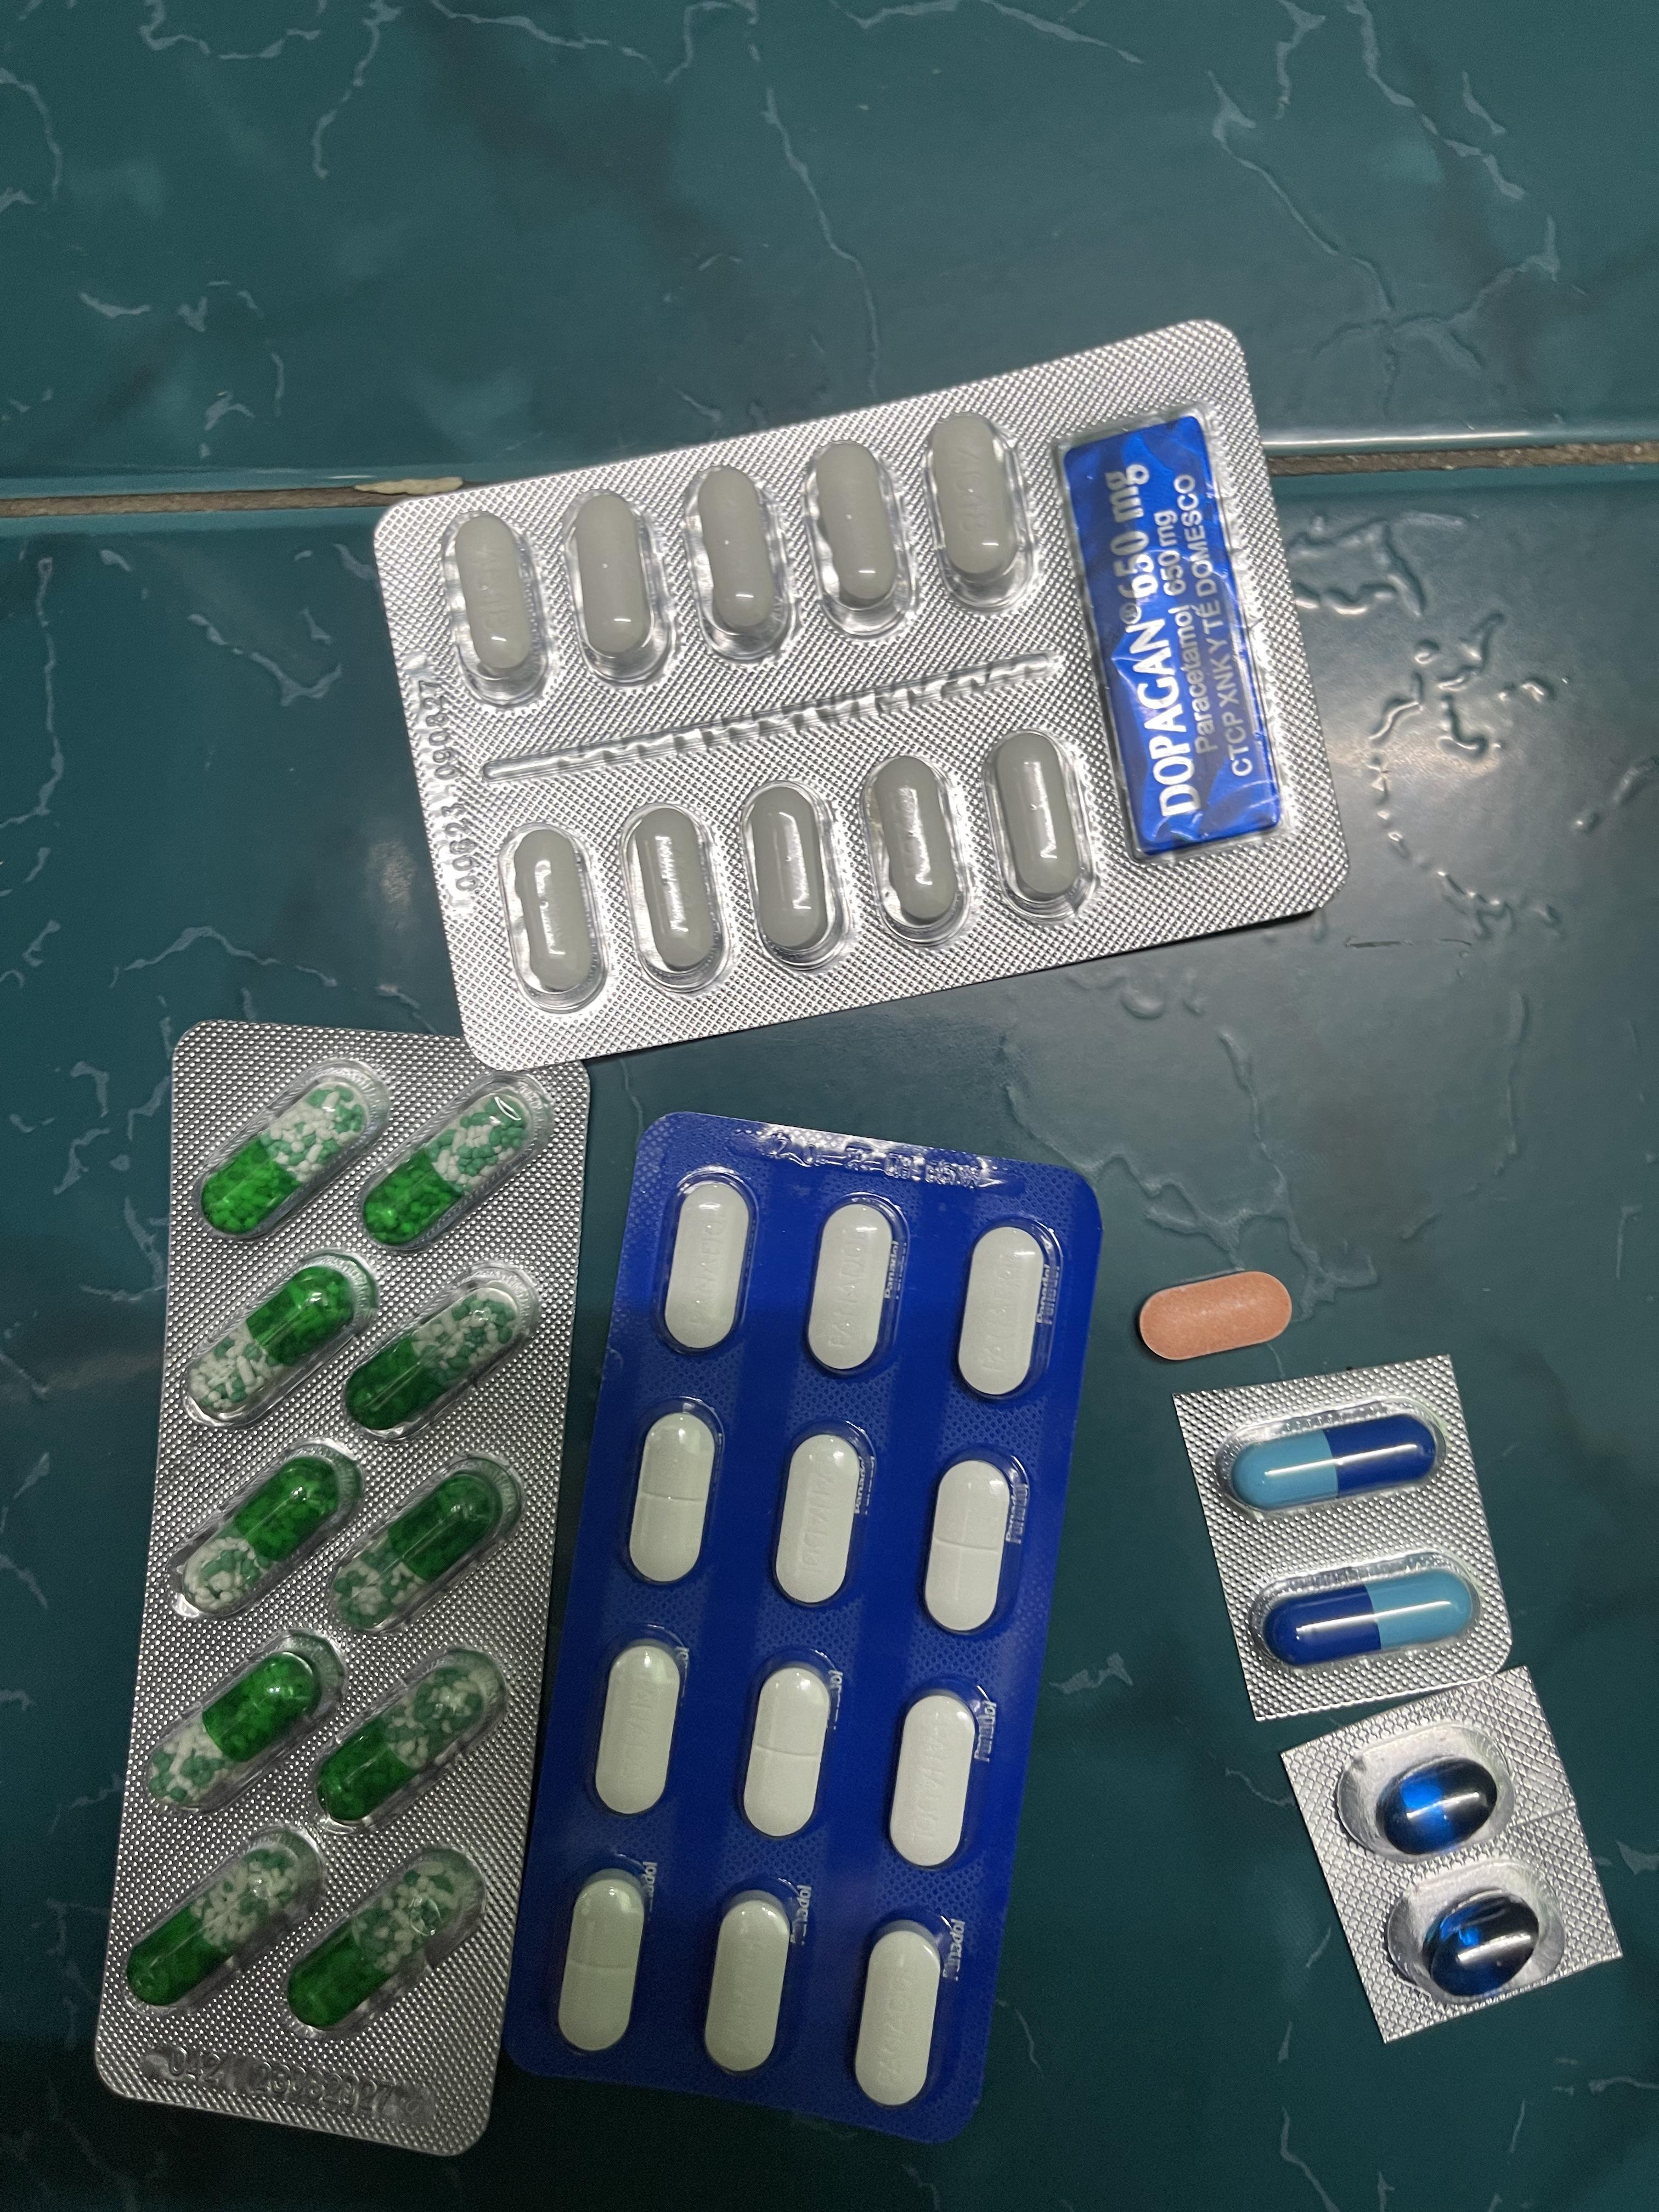Lincomyxin_500mg: (1373, 1756, 1502, 1855), (1420, 1892, 1542, 1994)
Loratadine_10mg: (1138, 1271, 1283, 1362)
Paracetamol_350mg: (854, 1923, 946, 2113), (741, 1658, 835, 1841), (702, 1893, 795, 2078), (887, 1689, 979, 1872), (558, 1871, 648, 2055), (627, 1406, 718, 1588), (925, 1456, 1016, 1637), (594, 1637, 685, 1818), (774, 1432, 866, 1609), (807, 1202, 901, 1376), (957, 1224, 1049, 1400), (662, 1179, 753, 1357)
Paracetamol_500mg: (683, 462, 795, 664), (803, 439, 915, 639), (739, 780, 850, 975), (441, 509, 551, 705), (619, 801, 730, 995), (925, 411, 1032, 610), (561, 491, 669, 686), (863, 754, 972, 946), (500, 820, 612, 1007), (986, 732, 1091, 921)
Paracetamol_650mg: (141, 1632, 349, 1815), (183, 1251, 383, 1430), (129, 1836, 322, 2008), (288, 1853, 477, 2027), (326, 1458, 509, 1632), (315, 1651, 497, 1820), (174, 1449, 356, 1616), (200, 1080, 375, 1233), (362, 1092, 530, 1242), (350, 1285, 523, 1430)
pill: (1270, 1571, 1474, 1669), (1239, 1418, 1429, 1508)
